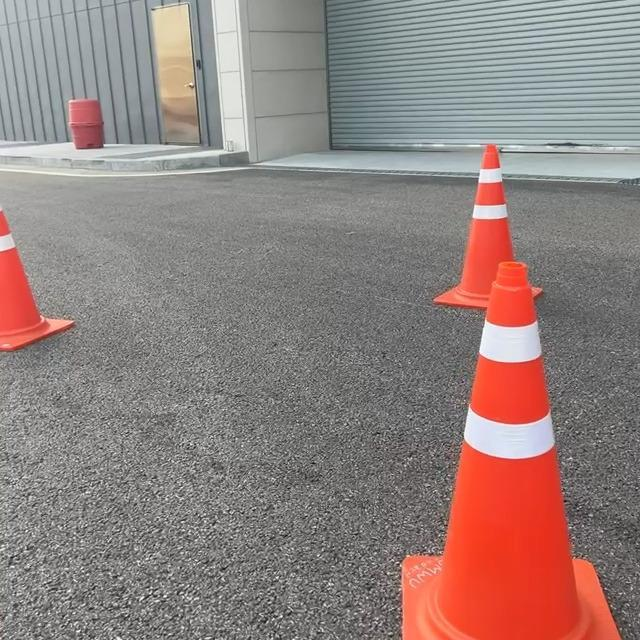fallen_object: (382, 237, 633, 640), (367, 130, 542, 347), (0, 146, 80, 397)
